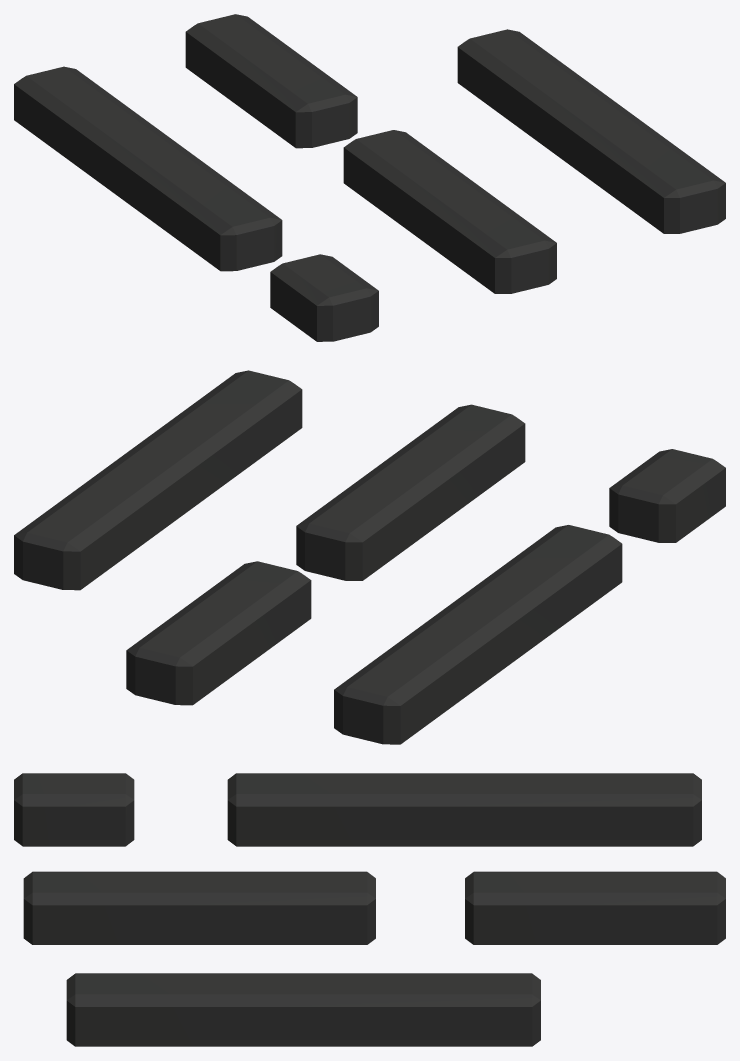
Rendered from Signs_1_2.obj.
The picture shows the model from 3 angles, top to bottom: view 1: azimuth 30°, elevation 25°; view 2: azimuth 150°, elevation 25°; view 3: azimuth 270°, elevation 25°; orthographic projection. The views are drawn at different scales.
Visible parts, largest first — view 1: Signs_1_2; view 2: Signs_1_2; view 3: Signs_1_2.
Part boxes in pixels (bbox=[...]): Signs_1_2: bbox=[14, 14, 725, 341]; Signs_1_2: bbox=[14, 370, 725, 744]; Signs_1_2: bbox=[14, 773, 725, 1046].
Size of the model in its own units: 0.3627 by 0.0331 by 0.4668.
